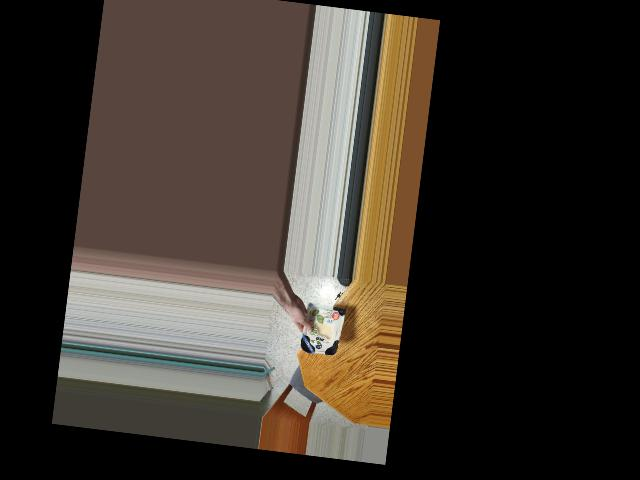cheese: (300, 294, 346, 364)
